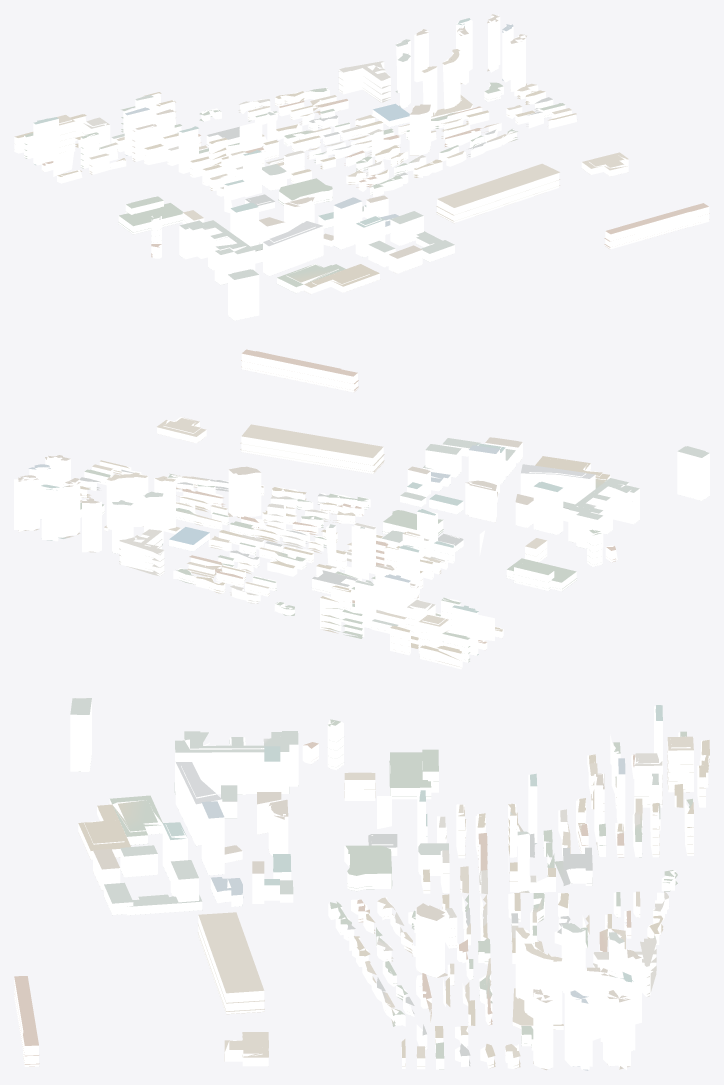
The model's file is buildings--8_2-coarse.glb.
The picture shows the model from 3 angles, top to bottom: view 1: azimuth 30°, elevation 25°; view 2: azimuth 150°, elevation 25°; view 3: azimuth 270°, elevation 25°; orthographic projection. The views are drawn at different scales.
Parts seen in each view (by area): view 1: block_-8_2_residential, block_-8_2_office, block_-8_2_roof; view 2: block_-8_2_office, block_-8_2_residential, block_-8_2_roof; view 3: block_-8_2_roof, block_-8_2_office, block_-8_2_residential.
Boxes of the visible parts, x1,y1,x2,y2 form: block_-8_2_residential: (14,61,709,293); block_-8_2_office: (33,14,525,320); block_-8_2_roof: (14,14,709,289); block_-8_2_office: (14,442,709,655); block_-8_2_residential: (80,353,617,669); block_-8_2_roof: (18,349,709,666); block_-8_2_roof: (14,698,709,1070); block_-8_2_office: (70,700,662,1069); block_-8_2_residential: (14,720,709,1069).
Bounding box in the file's own units: 644 × 68.41 × 600.
